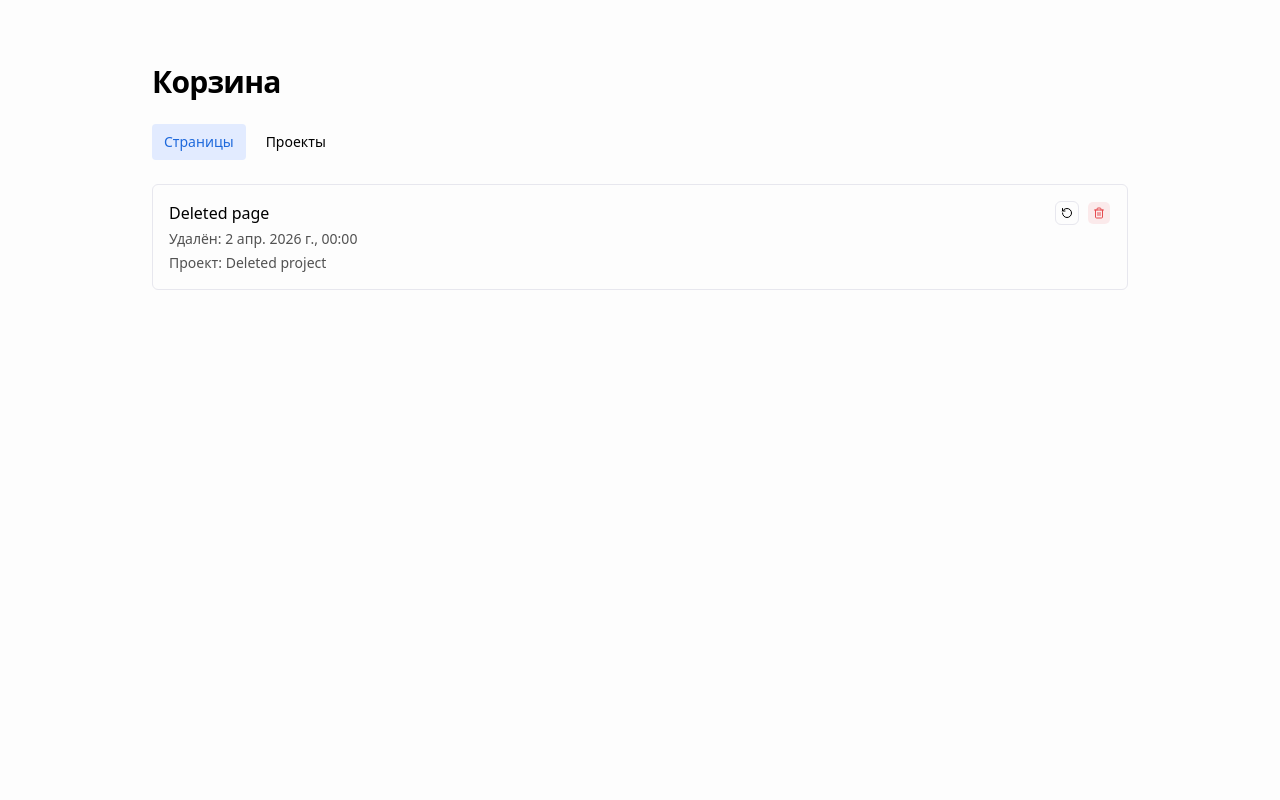
it: корзина › блокирует повторное destructive submit во время pending
The width and height of the screenshot is (1280, 800).
Click the button named "Удалить навсегда: Deleted page".
click(1099, 213)  # box [1087,201,1111,225]
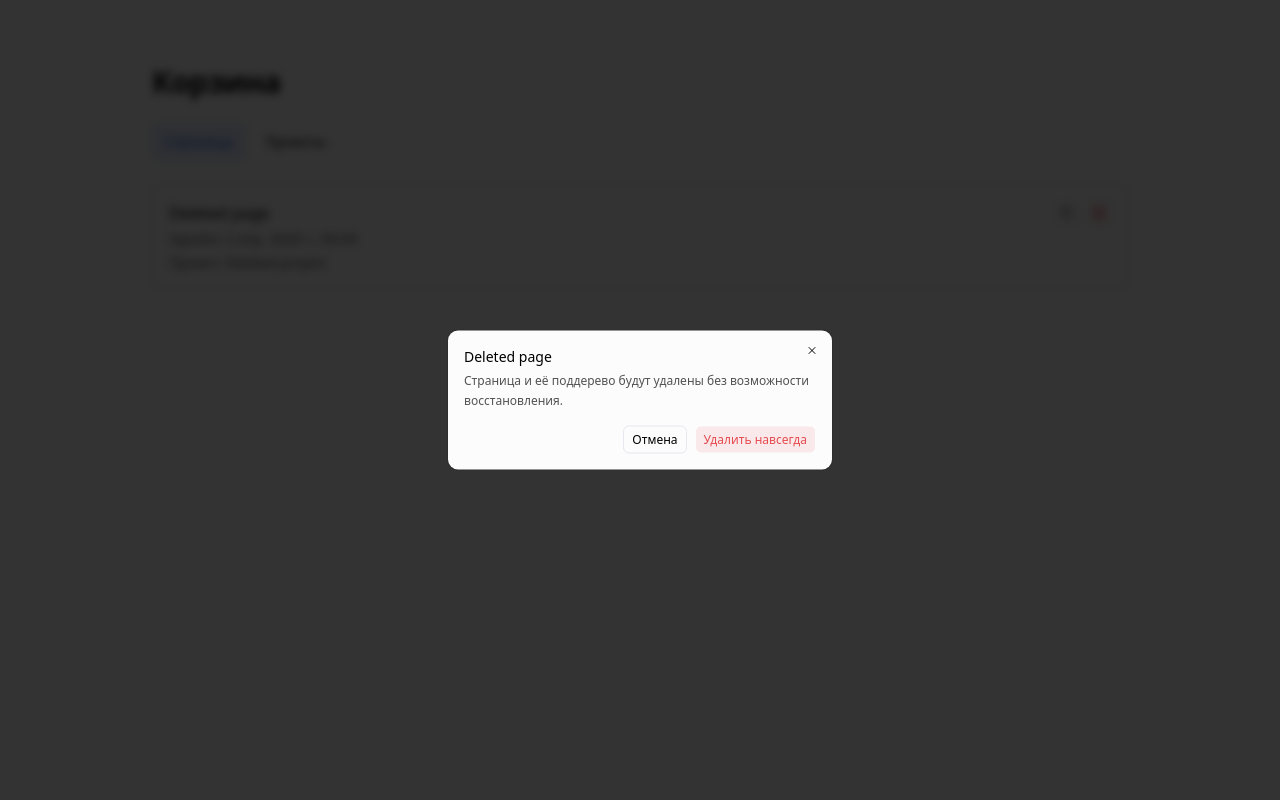
Click the button "Удалить навсегда".
click(755, 440)  # box [694,426,816,454]
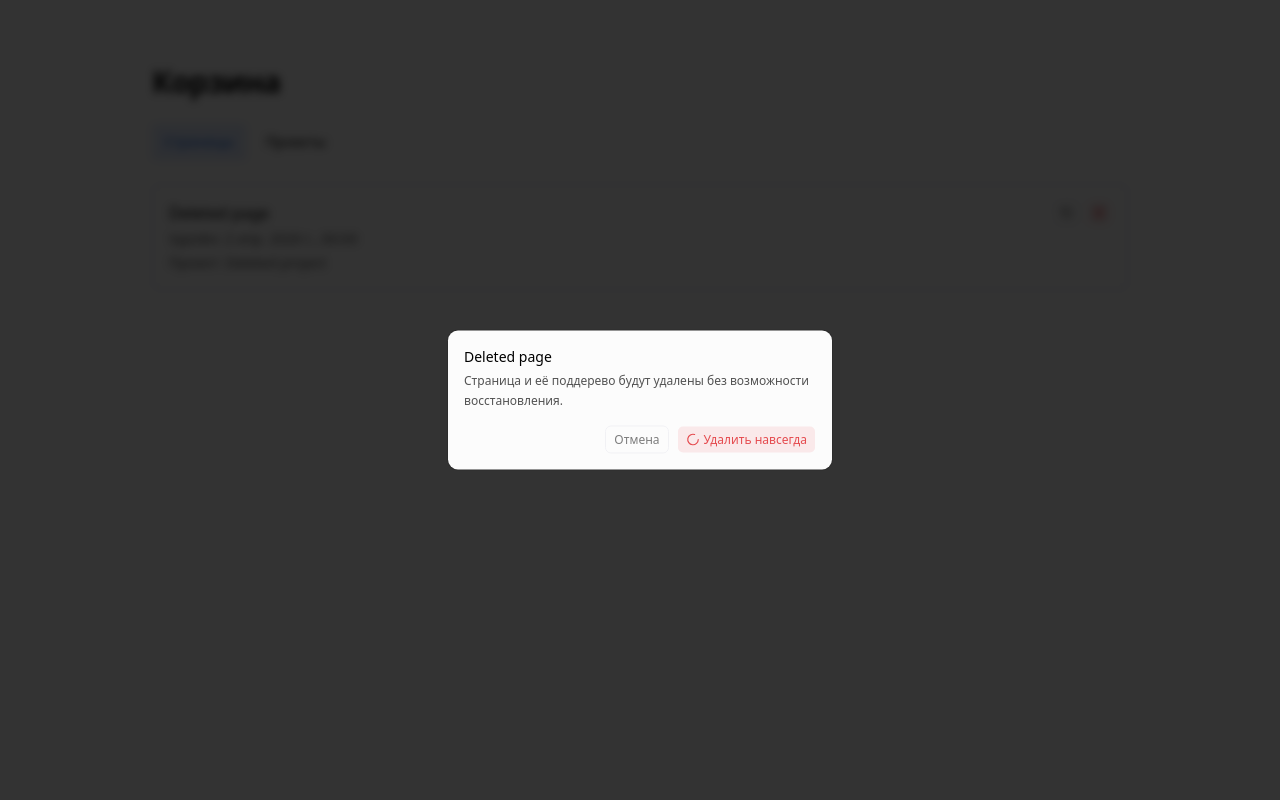
Check: the button "Удалить навсегда" is disabled
Click the button "Удалить навсегда".
click(746, 440)  # box [676,426,816,454]
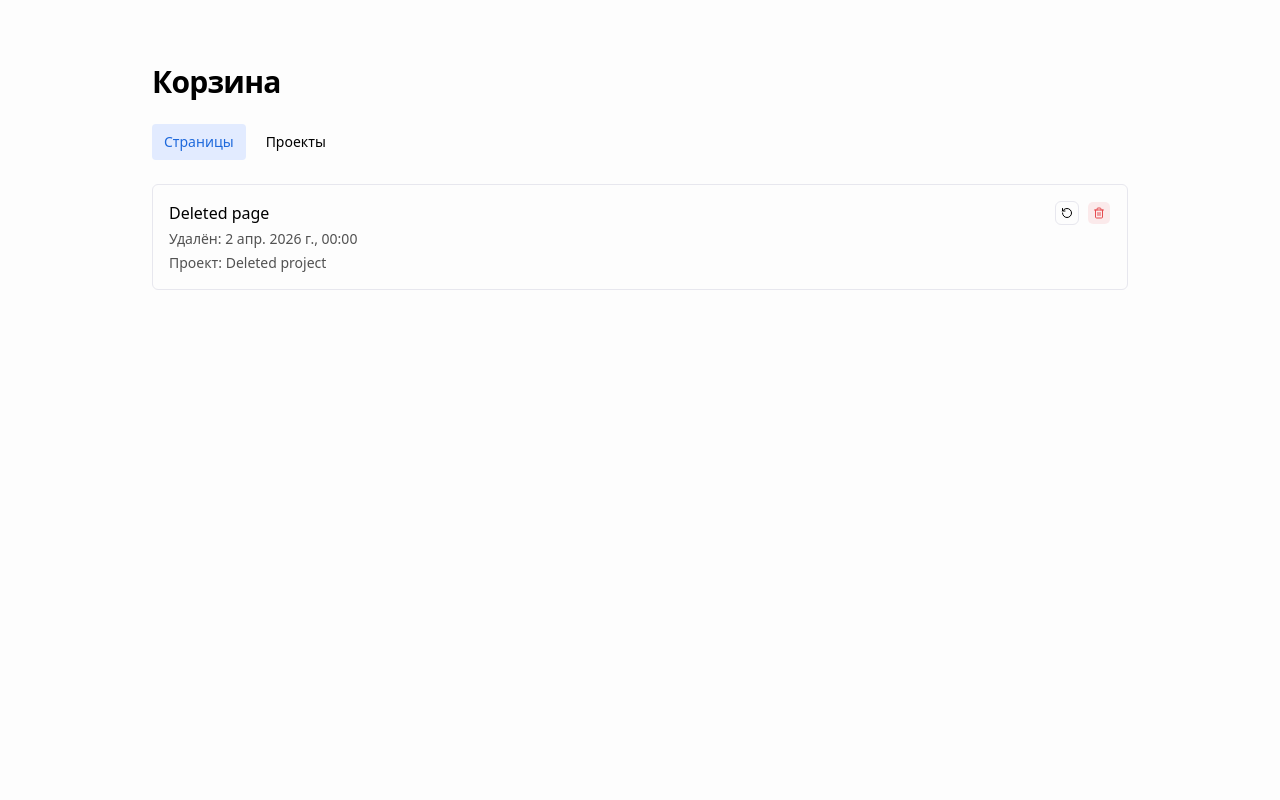
Check: the dialog is gone
